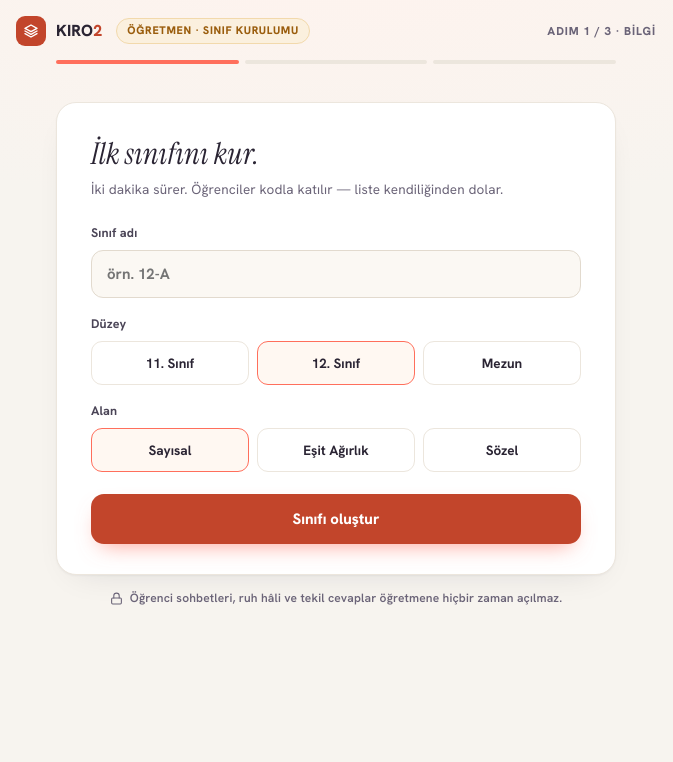
Scenario: SinifKurulumuPage › "Sınıfı oluştur" → davet adımı: sunucu kodu (postSinif) görünür; "Devam et" → hazır + /ogretmen/panel
The image size is (673, 762).
Type "12-B" into the field labelled "Sınıf adı". click: (336, 274)
box: [91,250,581,298]
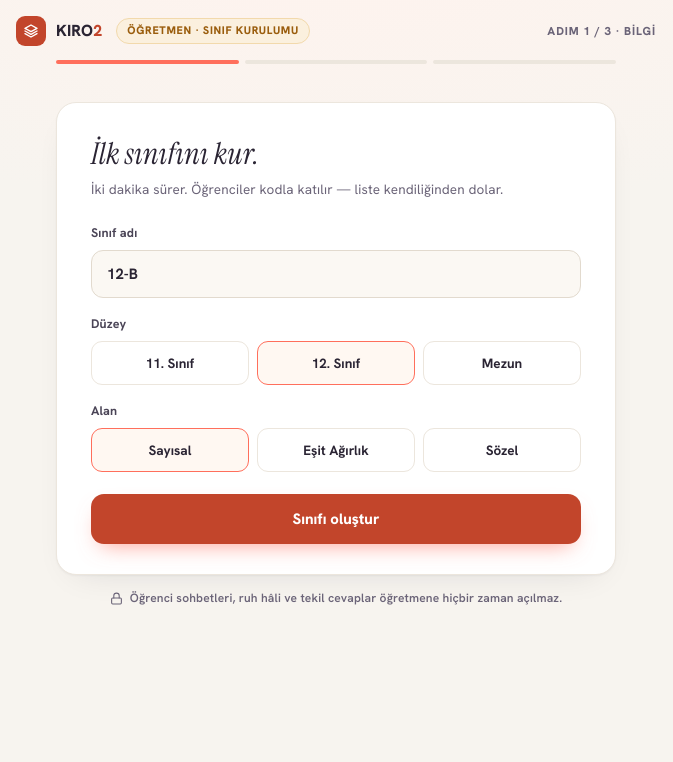
Click the button "Sınıfı oluştur". click: (336, 519)
box: [91,494,581,544]
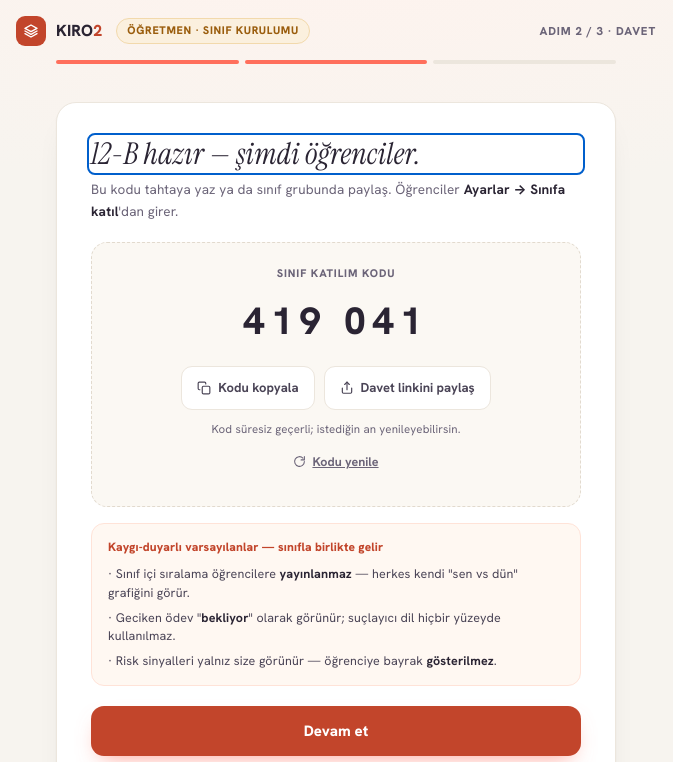
expect the text "Sınıf katılım kodu" is shown: met, box [277,266,395,280]
expect the text "419 041" is shown: met, box [243,296,429,346]
expect the text "Adım 2 / 3 · Davet" is shown: met, box [539,22,656,40]
# "Devam et" → Adım 3 · Hazır + panel rotası
Click the button "Devam et". click: (336, 731)
box: [91,706,581,756]
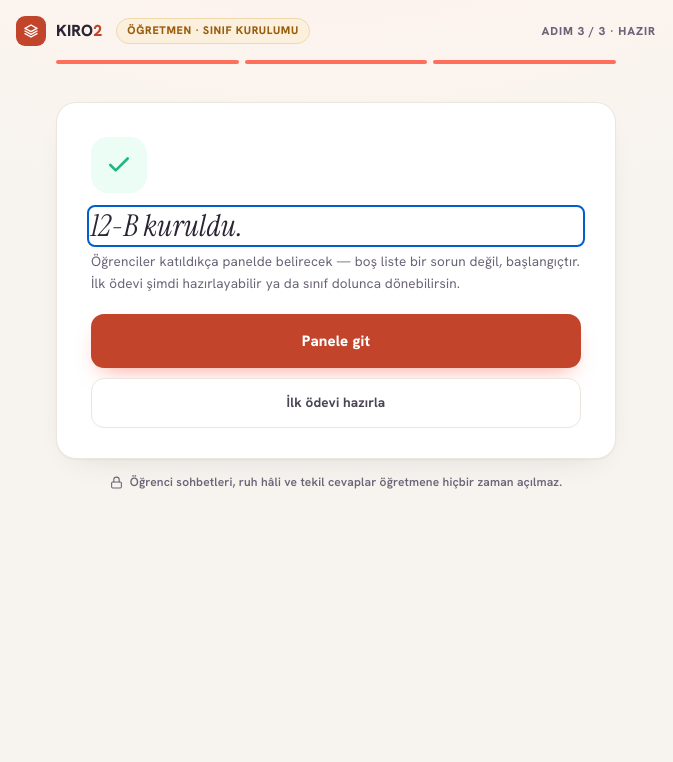
expect the heading "12-B kuruldu." is shown: met, box [91,206,243,245]
